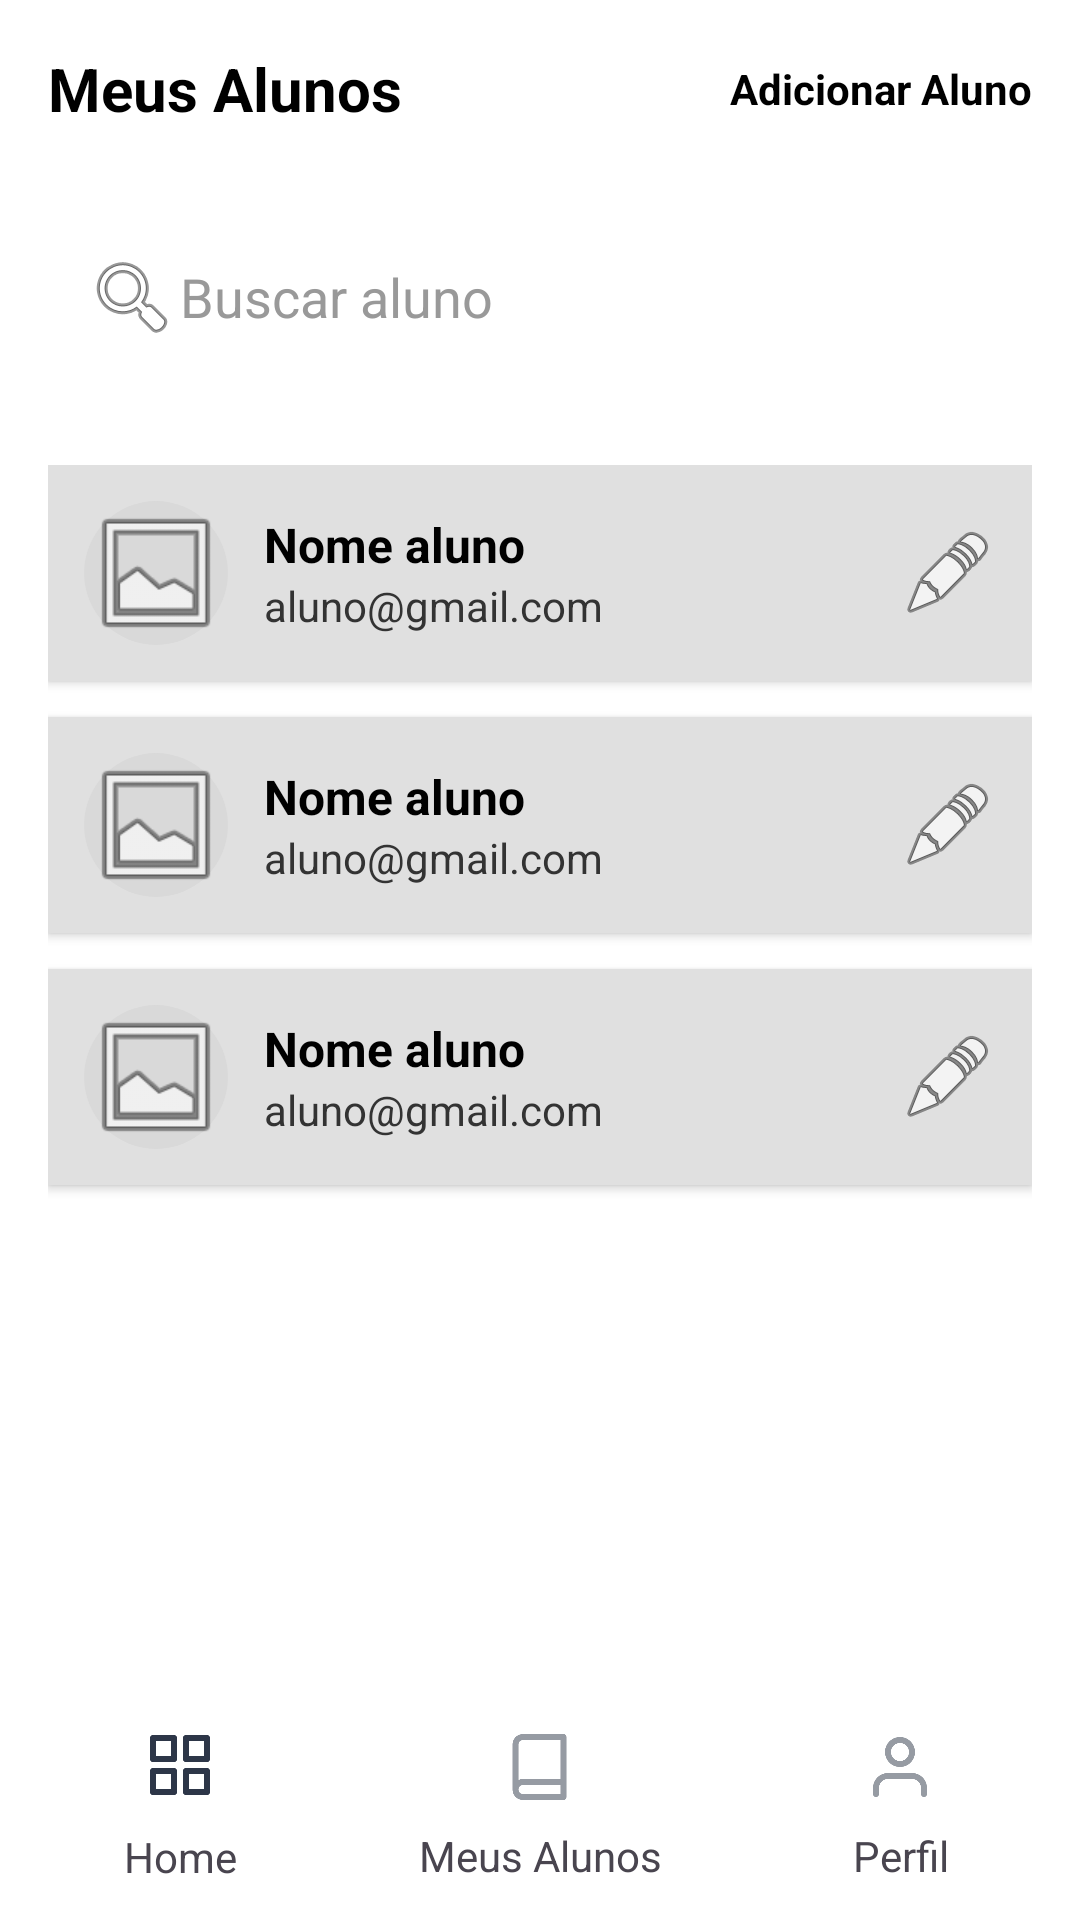

Icons on this 1080x1920 Android screen, each with the point to tap as (x=x, y=y):
Editar: (x=947, y=572), (x=947, y=824), (x=947, y=1076)
gallery: (x=156, y=573), (x=156, y=825), (x=156, y=1077)
